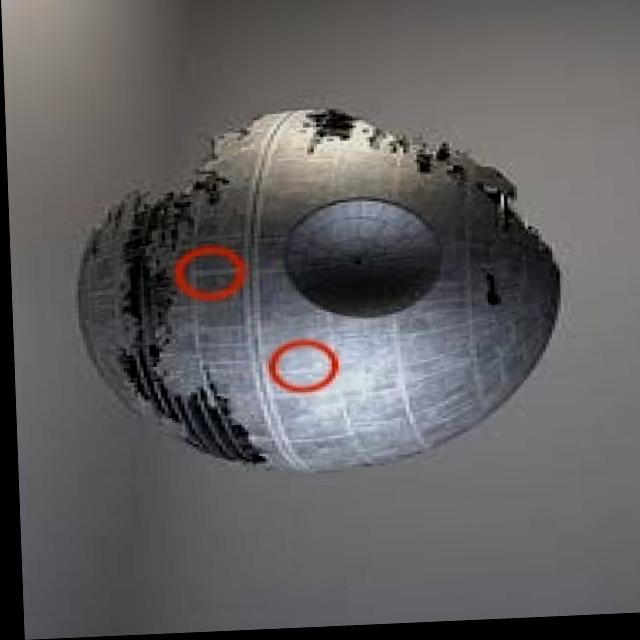deathStar: (65, 101, 566, 480)
